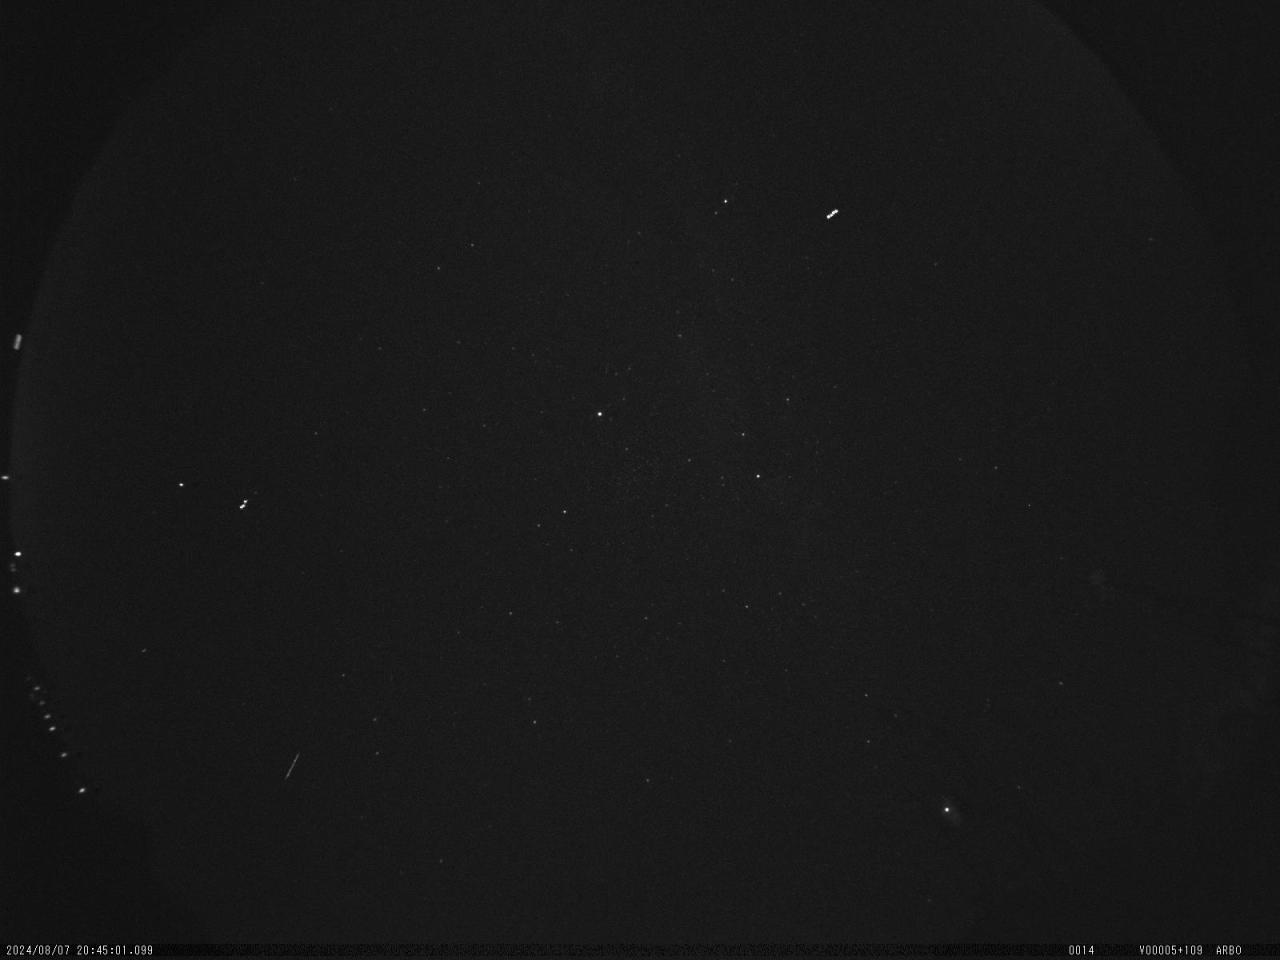Meteor: (282, 746, 303, 780)
